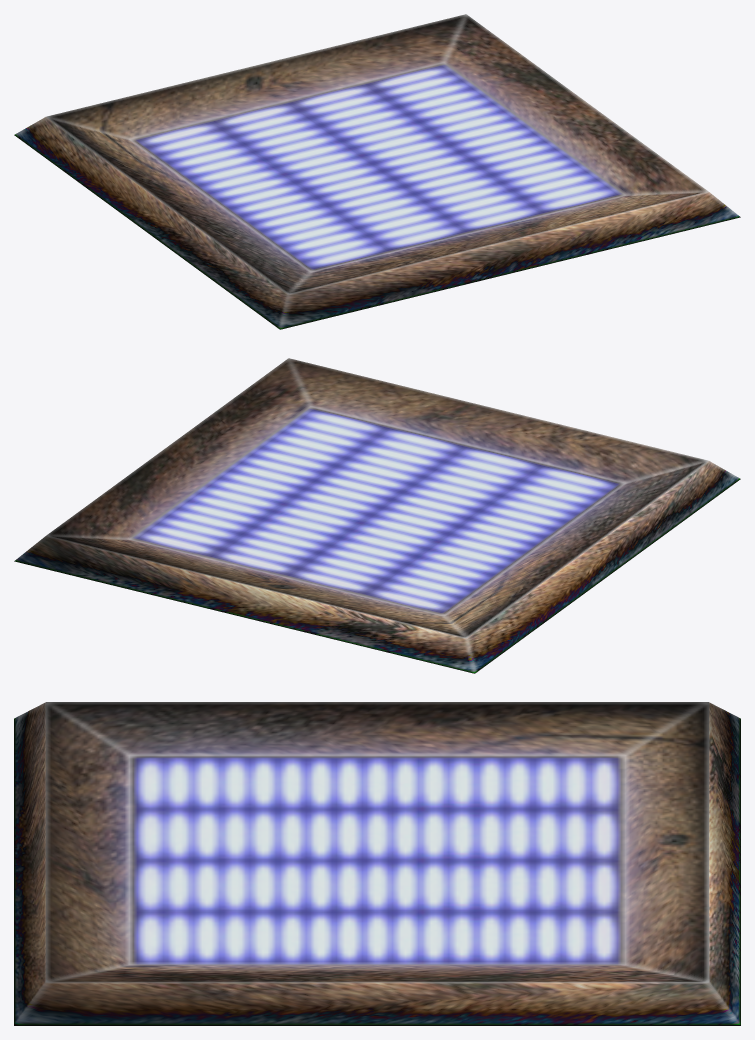
File: powerpanel.obj
3 renders of one model, top to bottom at view 1: azimuth 30°, elevation 25°; view 2: azimuth 150°, elevation 25°; view 3: azimuth 270°, elevation 25°, orthographic. The views are drawn at different scales.
Visible parts, largest first — view 1: ___Default; view 2: ___Default; view 3: ___Default.
Part boxes in pixels (x1,y1,x2,y2): ___Default: [14, 14, 740, 329]; ___Default: [14, 358, 740, 673]; ___Default: [14, 702, 740, 1025].
Size of the model in its own units: 1.1 by 0.05 by 1.1.
Materials: 1 (1 with a texture image).
